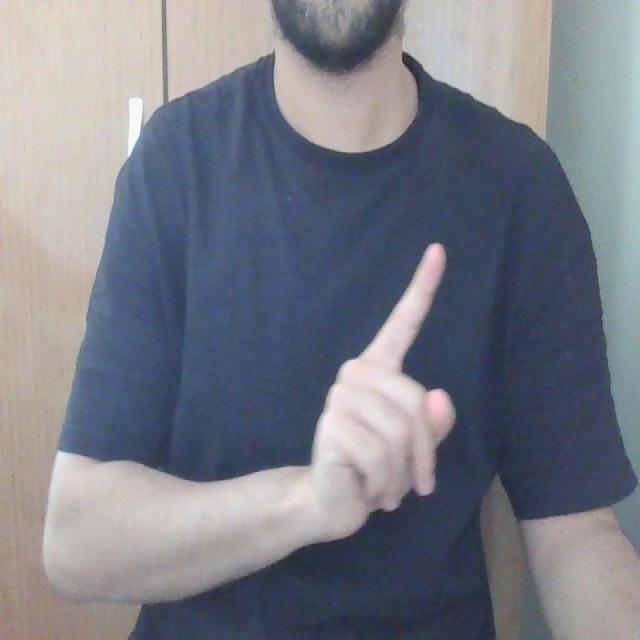Hayir: (309, 211, 465, 575)
